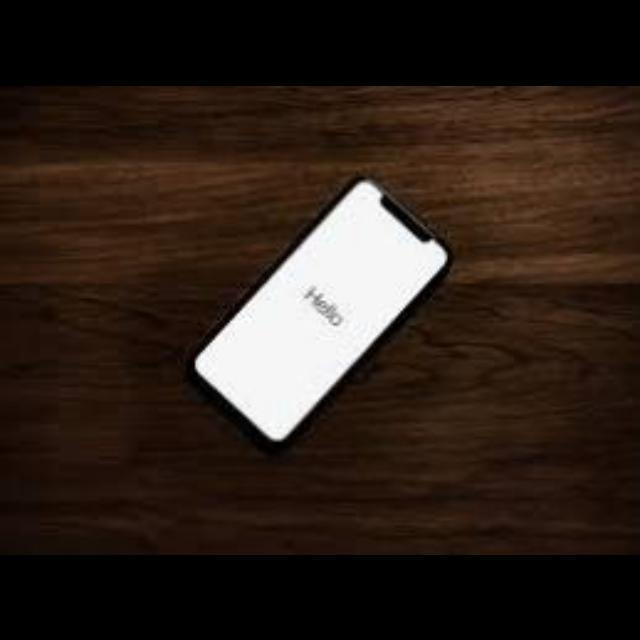phone: (198, 179, 444, 439)
